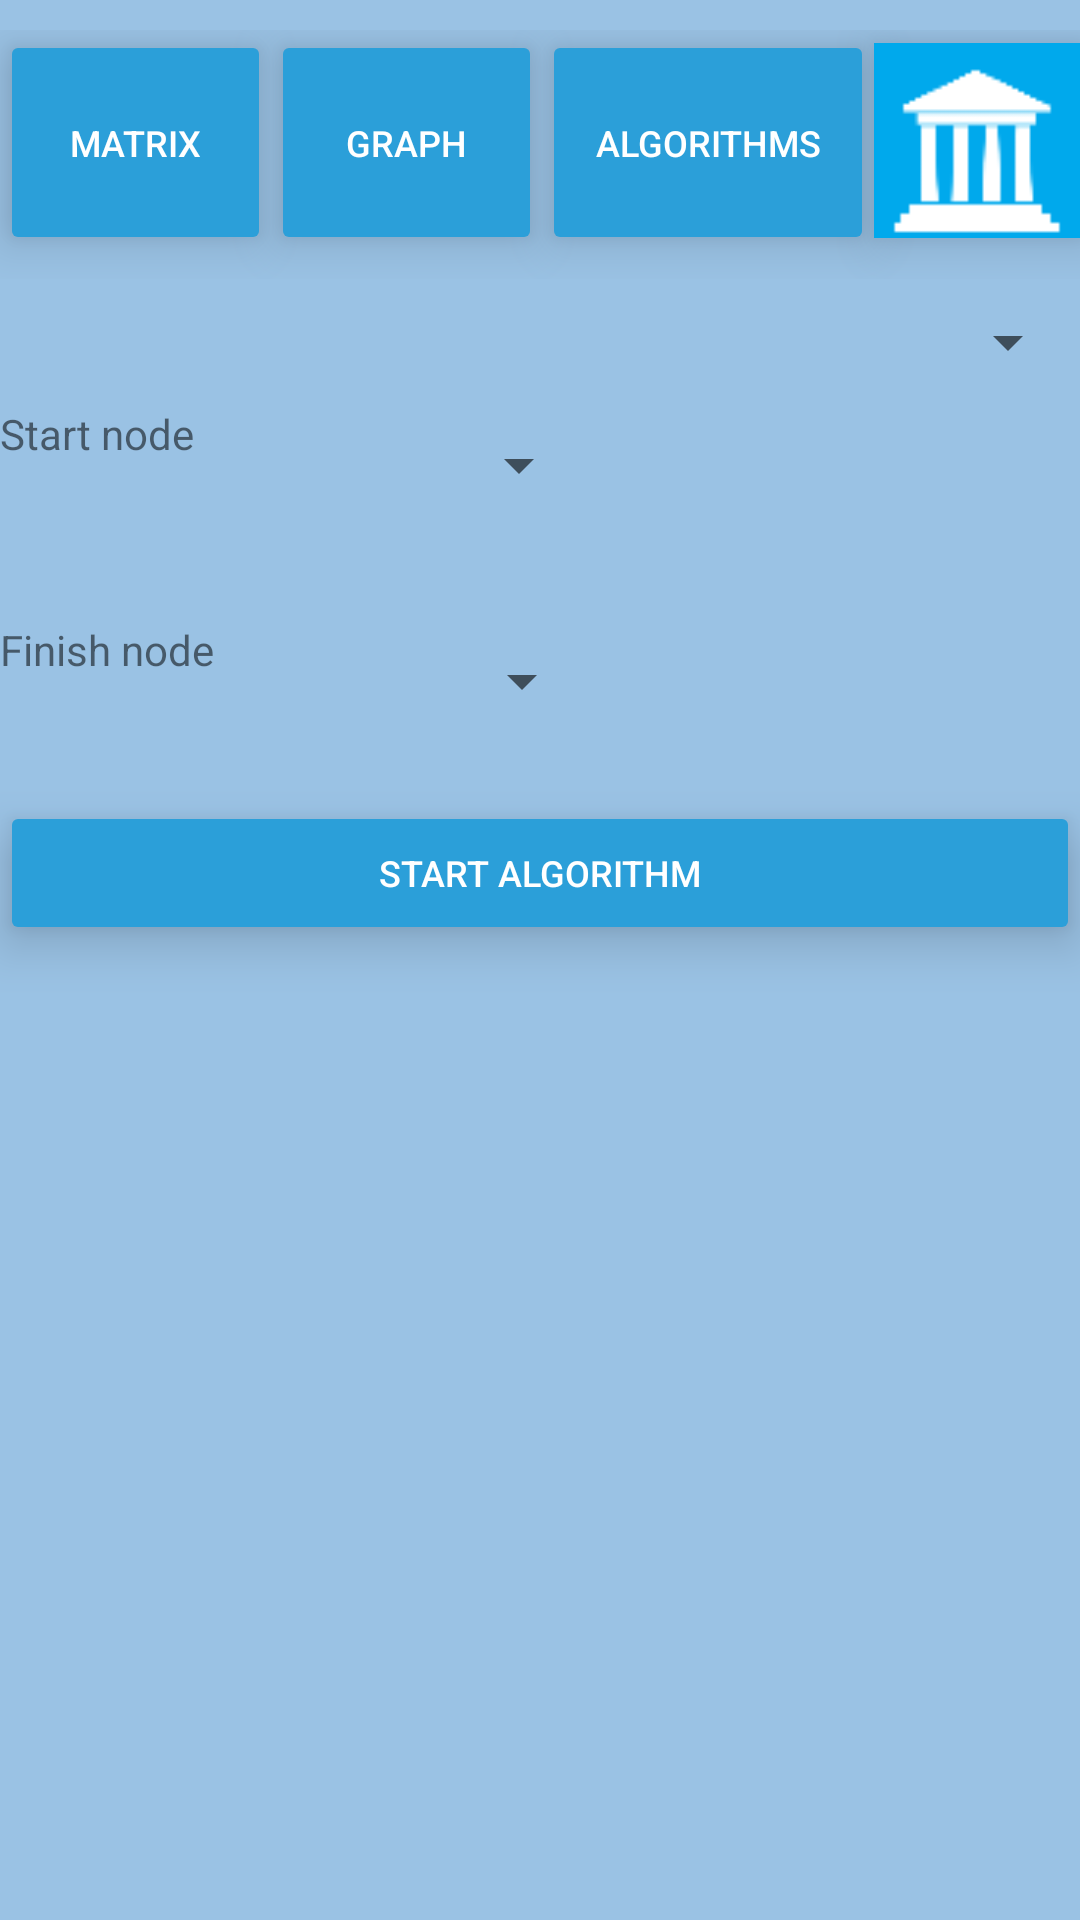

Screen size 1080w x 1920h. Icon name, then its center in pixels as (x=x, y=y):
lib: (x=977, y=140)
